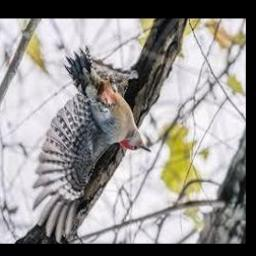Woodpecker: (33, 48, 150, 244)
